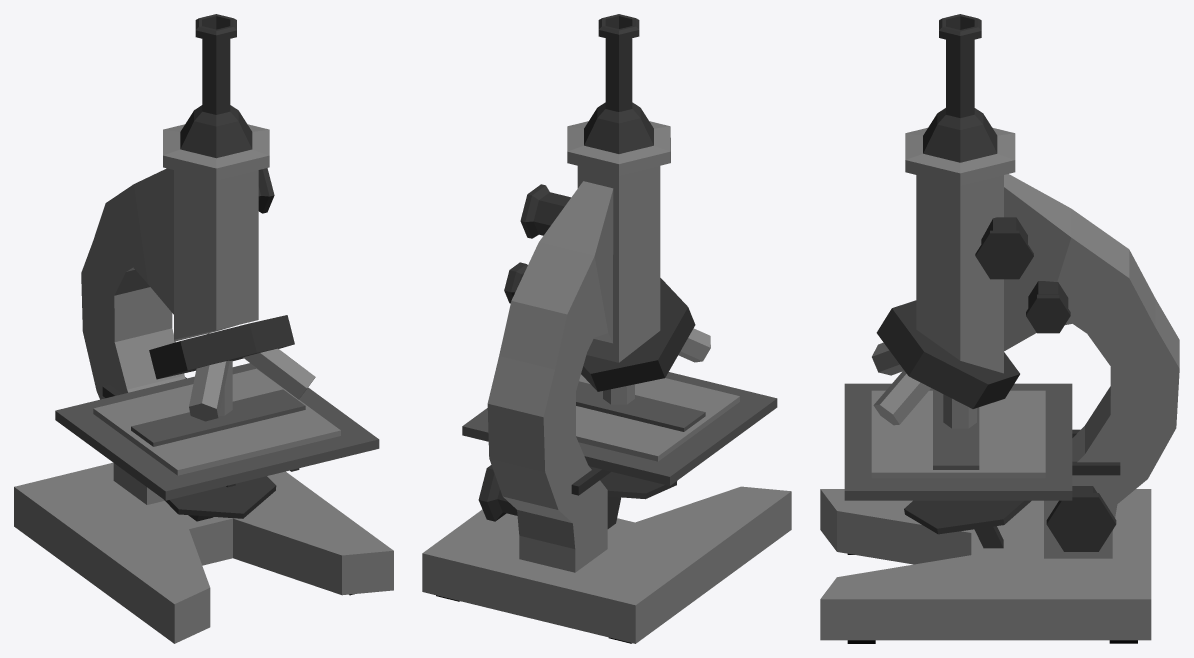
3 views of the same model, side by side, from view 1: azimuth 30°, elevation 25°; view 2: azimuth 150°, elevation 25°; view 3: azimuth 270°, elevation 25° (orthographic). The views are drawn at different scales.
Parts seen in each view (by area): view 1: Microscope; view 2: Microscope; view 3: Microscope.
Boxes of the visible parts, <box> form: Microscope: <box>14,14,393,643</box>; Microscope: <box>422,14,791,643</box>; Microscope: <box>820,14,1179,643</box>.
Bounding box in the file's own units: 1.48 × 3.56 × 2.04.
Materials: 1 (1 with a texture image).
